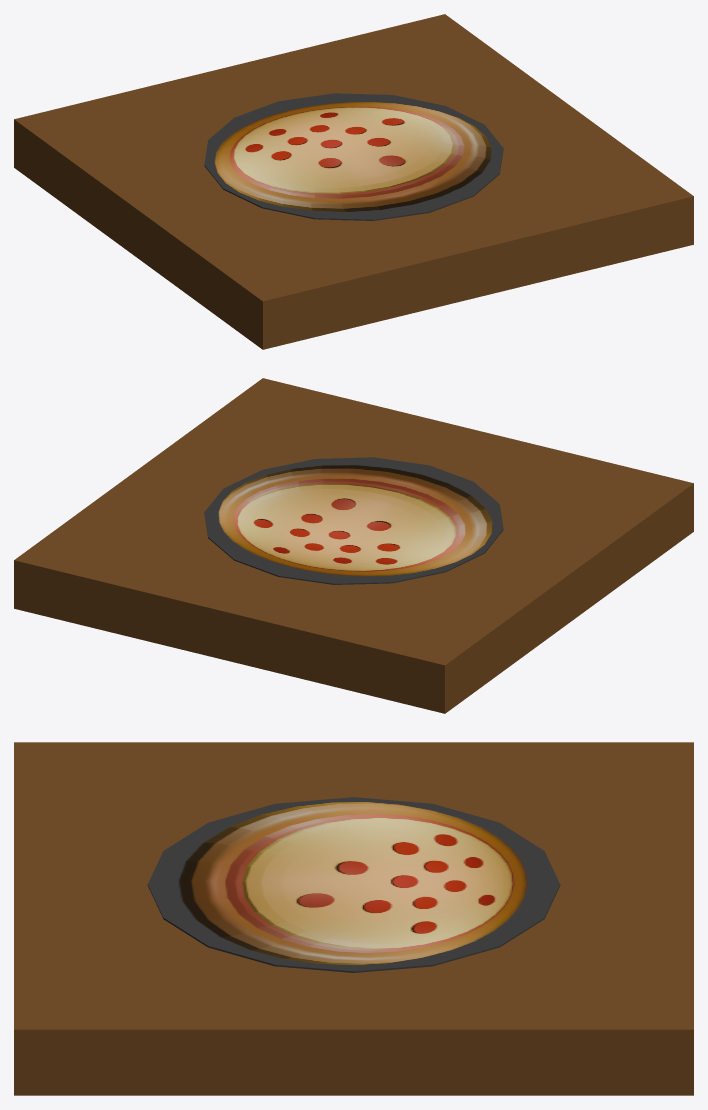
Rendered from pizzaBox.fbx.
The picture shows the model from 3 angles, top to bottom: view 1: azimuth 30°, elevation 25°; view 2: azimuth 150°, elevation 25°; view 3: azimuth 270°, elevation 25°; orthographic projection. The views are drawn at different scales.
Visible parts, largest first — view 1: Cube.001, PizzaBox; view 2: Cube.001, PizzaBox; view 3: Cube.001, PizzaBox.
Part boxes in pixels (bbox=[...]): Cube.001: bbox=[14, 14, 693, 311]; PizzaBox: bbox=[14, 128, 693, 349]; Cube.001: bbox=[14, 378, 693, 675]; PizzaBox: bbox=[14, 492, 693, 713]; Cube.001: bbox=[14, 742, 693, 1044]; PizzaBox: bbox=[14, 1041, 693, 1095].
Bounding box in the file's own units: 218 × 23.93 × 218.
3 materials, 1 textured.
